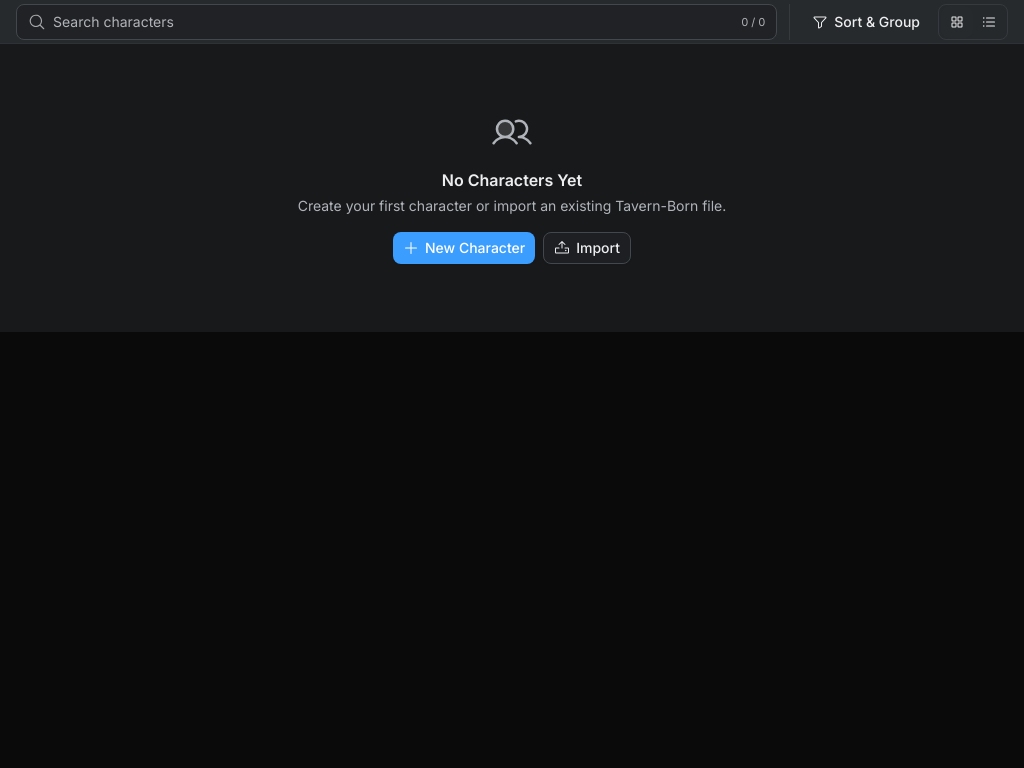
home page integration workflows › does not show a content warning when no backup entry was imported
Click the button "Import" at (587, 248), box [543,232,631,264]
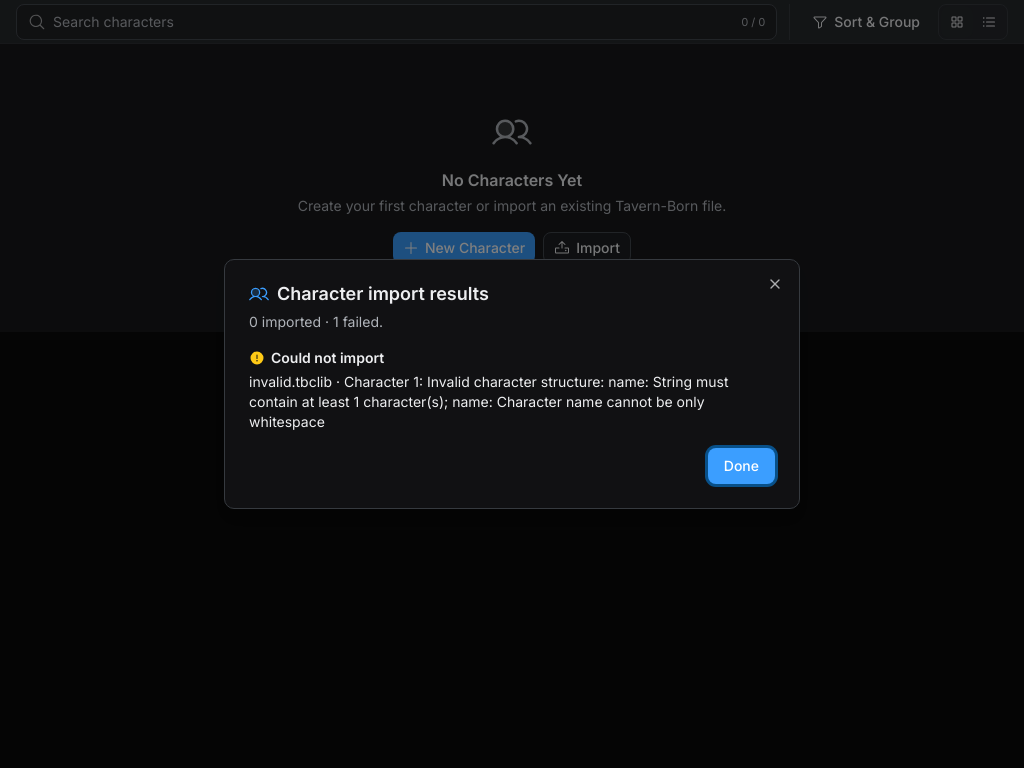
Now the text "0 imported · 1 failed." is shown, box [249,313,383,330]
